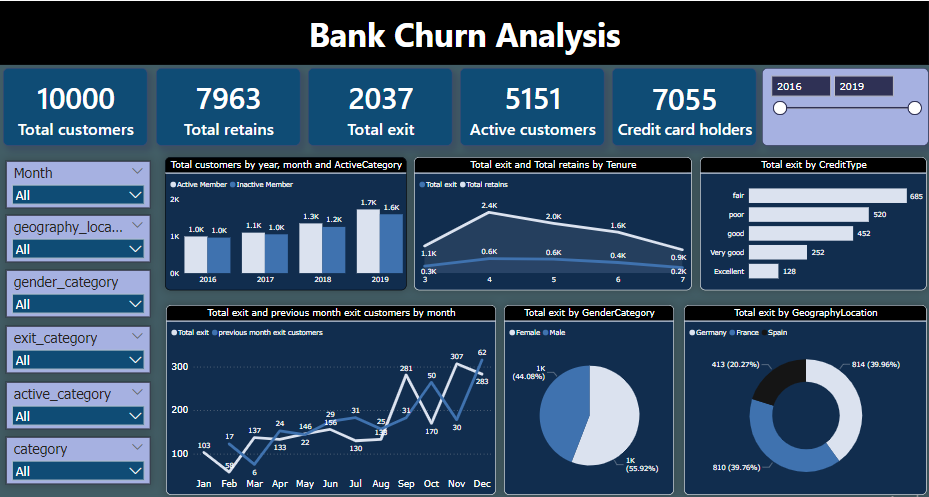

The page's visual inventory and layout, read from the dashboard file:
{"tool":"powerbi","page":{"name":"EDA","canvas":[1673,900],"ordinal":0},"visuals":[{"type":"textbox","box":[0,0,1673,115],"z":0},{"type":"shape","box":[280.8,288,16.2,612],"z":1000},{"type":"card","fields":{"Values":["My_measures.Total customers"]},"box":[5,120,260,140],"z":2000},{"type":"slicer","fields":{"Values":["Daaate.year"]},"box":[1371.6,120.6,300.6,140.4],"z":3000},{"type":"card","fields":{"Values":["My_measures.Total retains"]},"box":[280,120,260,140],"z":4000},{"type":"card","fields":{"Values":["My_measures.Total exit"]},"box":[555,120,260,140],"z":5000},{"type":"card","fields":{"Values":["My_measures.Active customers"]},"box":[828,120,260,140],"z":6000},{"type":"slicer","fields":{"Values":["Geography.GeographyLocation"]},"box":[10,385,259,85],"z":7000},{"type":"slicer","fields":{"Values":["ExitCustomer.ExitCategory"]},"box":[10,585,260,85],"z":8000},{"type":"slicer","fields":{"Values":["ActiveCustomer.ActiveCategory"]},"box":[10,685,260,85],"z":9000},{"type":"slicer","fields":{"Values":["Gender.GenderCategory"]},"box":[10,485,260,85],"z":10000},{"type":"slicer","fields":{"Values":["Daaate.month_name"]},"box":[10,288,260,85],"z":11000},{"type":"card","fields":{"Values":["My_measures.Credit card holders"]},"box":[1101,120,260,140],"z":12000},{"type":"clusteredColumnChart","title":"Total customers by year, month and ActiveCategory","fields":{"Y":["My_measures.Total customers"],"Category":["Daaate.year","Daaate.month_name"],"Series":["ActiveCustomer.ActiveCategory"]},"box":[297,280.8,435.6,240],"z":13000},{"type":"lineChart","title":"Total exit and previous month exit customers by month","fields":{"Category":["Daaate.month_name"],"Y":["My_measures.Total exit"],"Y2":["My_measures.previous month exit customers"]},"box":[298.8,547.2,594,342],"z":14000},{"type":"pieChart","fields":{"Y":["My_measures.Total exit"],"Category":["Gender.GenderCategory"]},"box":[907.2,547.2,306,342],"z":15000},{"type":"donutChart","fields":{"Y":["My_measures.Total exit"],"Category":["Geography.GeographyLocation"]},"box":[1231.2,547.2,437.4,342],"z":16000},{"type":"areaChart","fields":{"Category":["Bank_Churn.Tenure"],"Y":["My_measures.Total exit","My_measures.Total retains"]},"box":[745.2,280.8,500.4,240],"z":17000},{"type":"slicer","fields":{"Values":["CreditCard.Category"]},"box":[10,785,260,85],"z":18000},{"type":"clusteredBarChart","fields":{"Category":["Bank_Churn.CreditType"],"Y":["My_measures.Total exit"]},"box":[1260,280.8,408.6,240],"z":19000}]}

Visuals, with their boxes in screenshot pixels (x1, y1, x2, y2), scaled from the page's 1673x900 canvas onto the 929x497 screenshot:
textbox: {"x1": 0, "y1": 0, "x2": 928, "y2": 64}
shape: {"x1": 156, "y1": 159, "x2": 165, "y2": 496}
card - My_measures.Total customers: {"x1": 3, "y1": 66, "x2": 147, "y2": 144}
slicer - Daaate.year: {"x1": 762, "y1": 67, "x2": 928, "y2": 144}
card - My_measures.Total retains: {"x1": 155, "y1": 66, "x2": 300, "y2": 144}
card - My_measures.Total exit: {"x1": 308, "y1": 66, "x2": 453, "y2": 144}
card - My_measures.Active customers: {"x1": 460, "y1": 66, "x2": 604, "y2": 144}
slicer - Geography.GeographyLocation: {"x1": 6, "y1": 213, "x2": 149, "y2": 260}
slicer - ExitCustomer.ExitCategory: {"x1": 6, "y1": 323, "x2": 150, "y2": 370}
slicer - ActiveCustomer.ActiveCategory: {"x1": 6, "y1": 378, "x2": 150, "y2": 425}
slicer - Gender.GenderCategory: {"x1": 6, "y1": 268, "x2": 150, "y2": 315}
slicer - Daaate.month_name: {"x1": 6, "y1": 159, "x2": 150, "y2": 206}
card - My_measures.Credit card holders: {"x1": 611, "y1": 66, "x2": 756, "y2": 144}
"Total customers by year, month and ActiveCategory" clusteredColumnChart: {"x1": 165, "y1": 155, "x2": 407, "y2": 288}
"Total exit and previous month exit customers by month" lineChart: {"x1": 166, "y1": 302, "x2": 496, "y2": 491}
pieChart - My_measures.Total exit x Gender.GenderCategory: {"x1": 504, "y1": 302, "x2": 674, "y2": 491}
donutChart - My_measures.Total exit x Geography.GeographyLocation: {"x1": 684, "y1": 302, "x2": 927, "y2": 491}
areaChart - Bank_Churn.Tenure x My_measures.Total exit: {"x1": 414, "y1": 155, "x2": 692, "y2": 288}
slicer - CreditCard.Category: {"x1": 6, "y1": 433, "x2": 150, "y2": 480}
clusteredBarChart - Bank_Churn.CreditType x My_measures.Total exit: {"x1": 700, "y1": 155, "x2": 927, "y2": 288}
